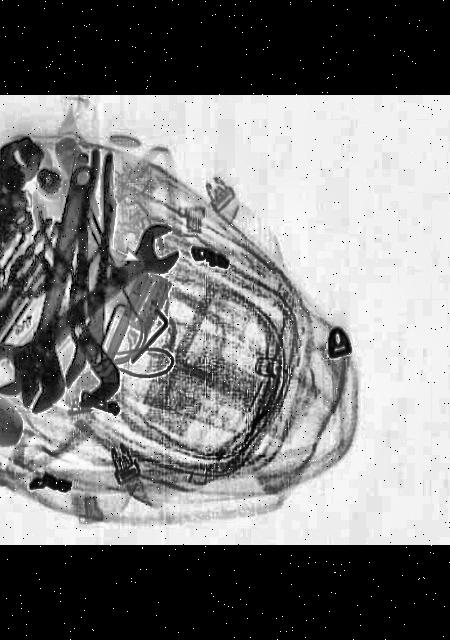Wrench: (0, 219, 199, 402), (6, 162, 112, 418)
